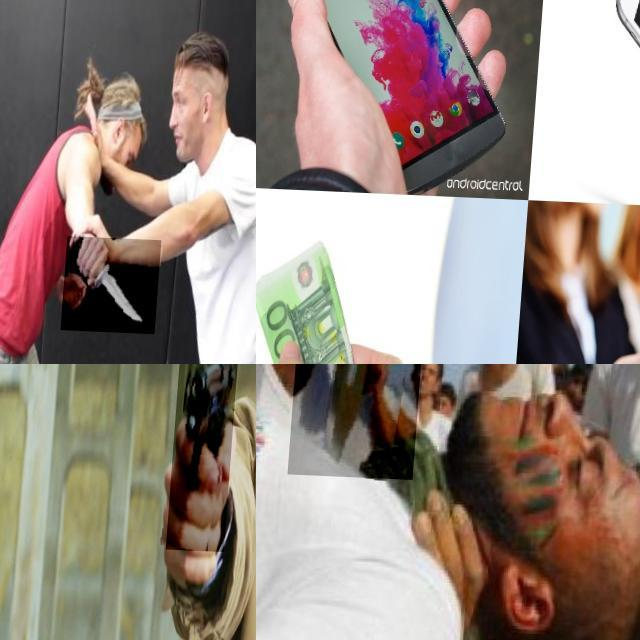-: (294, 364, 439, 532), (66, 234, 165, 331)
gun-knife-thesis - v11 Yolov5 augmented: (172, 364, 243, 549)
